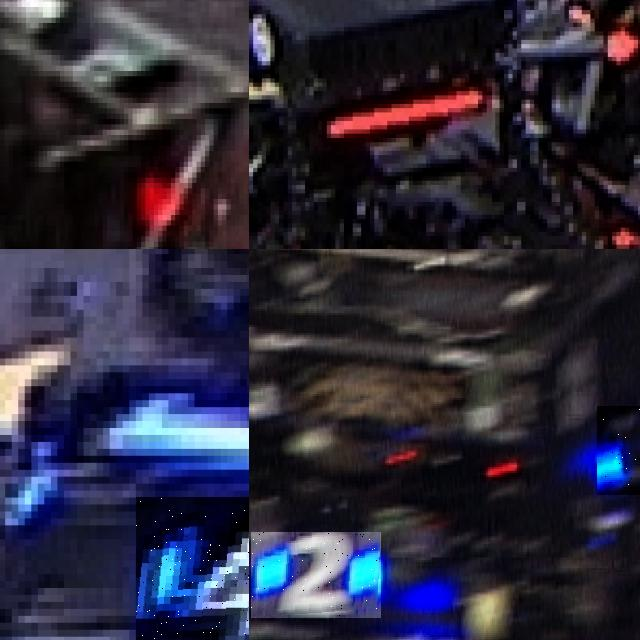B2: (252, 532, 382, 618), (597, 406, 640, 495)
B4: (135, 497, 249, 640)
